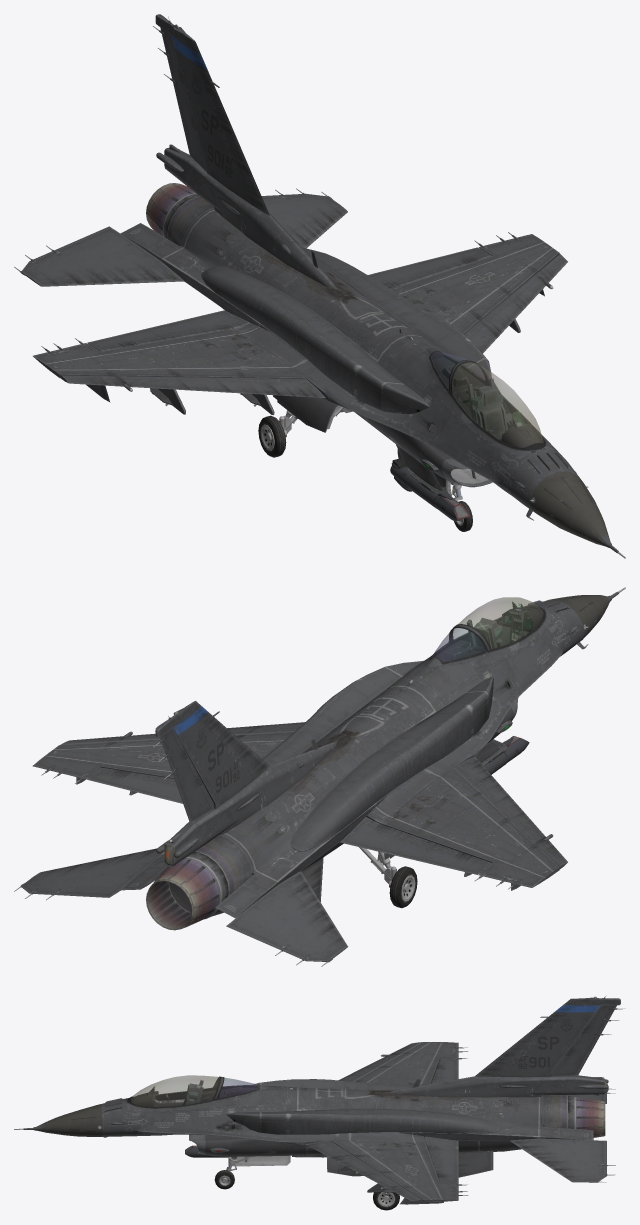
The picture shows the model from 3 angles, top to bottom: view 1: azimuth 30°, elevation 25°; view 2: azimuth 150°, elevation 25°; view 3: azimuth 270°, elevation 25°; orthographic projection. The views are drawn at different scales.
Parts seen in each view (by area): view 1: Chassis_1, open_2, SniperXR_0; view 2: Chassis_1, open_2, SniperXR_0; view 3: Chassis_1, open_2.
Boxes of the visible parts, x1,y1,x2,y2 form: Chassis_1: (14,14,625,558); open_2: (258,395,472,531); SniperXR_0: (390,458,469,521); Chassis_1: (14,587,625,966); open_2: (359,847,417,908); SniperXR_0: (483,736,529,774); Chassis_1: (14,995,625,1204); open_2: (214,1155,399,1210).
Bounding box in the file's own units: 0.0923 × 0.0527 × 0.151.
Materials: 3 (3 with a texture image).
